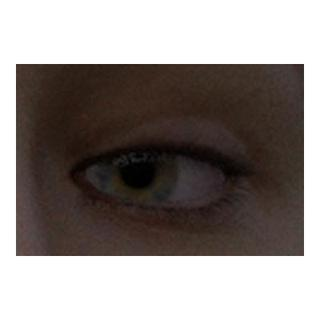pupil: (122, 155, 154, 187)
